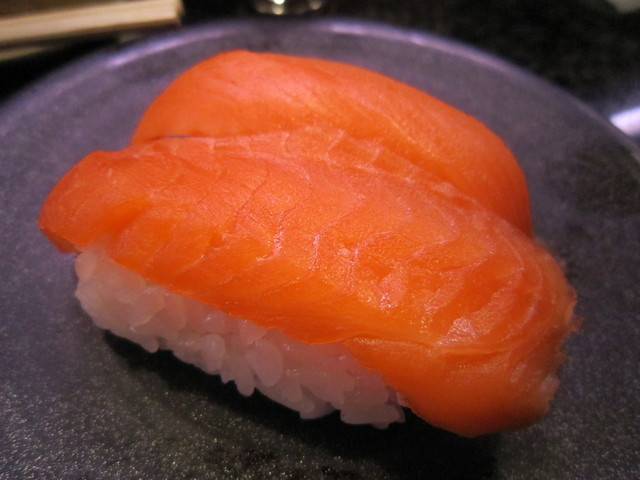salmon: (42, 53, 581, 452)
